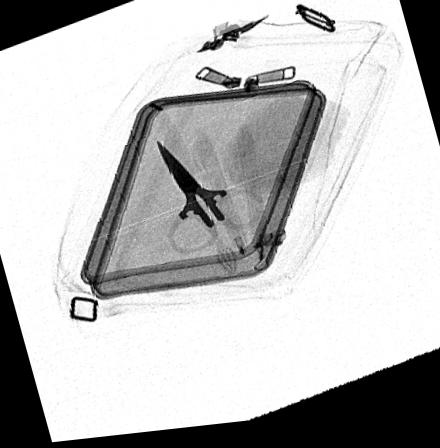Scissors: (155, 143, 264, 260)
